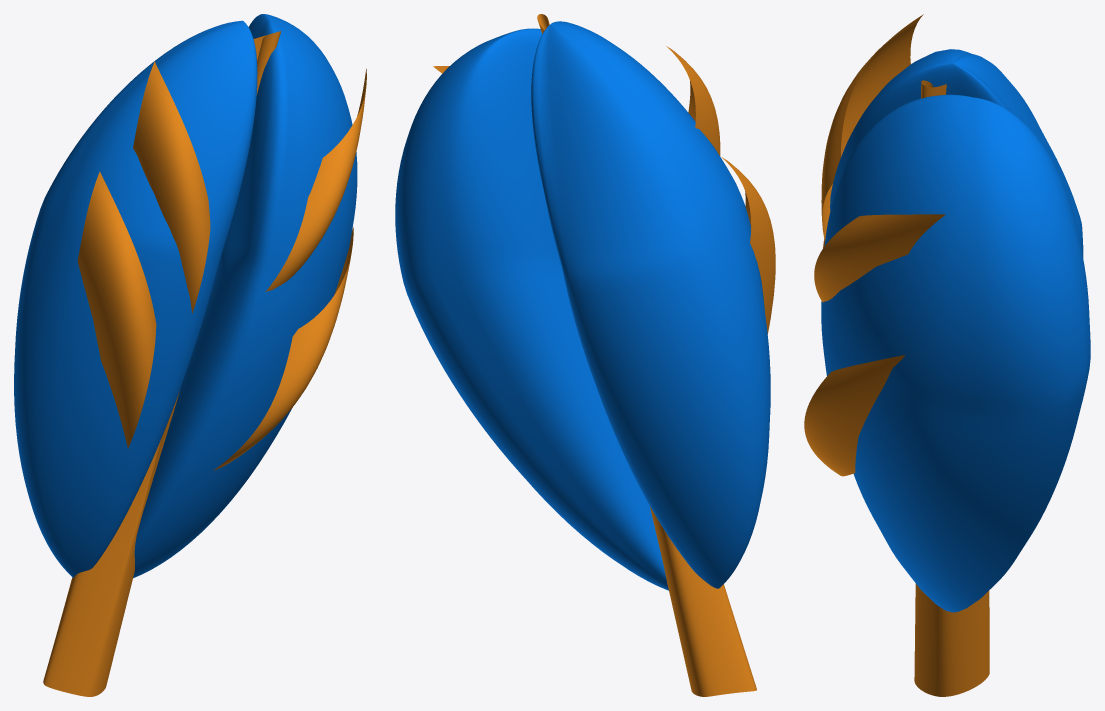
File: SpeedPowerUp.fbx
The picture shows the model from 3 angles, left to right: view 1: azimuth 30°, elevation 25°; view 2: azimuth 150°, elevation 25°; view 3: azimuth 270°, elevation 25°; orthographic projection. The views are drawn at different scales.
Parts seen in each view (by area): view 1: SurfSphere, SurfPatch, Surface; view 2: SurfSphere, Surface, SurfPatch; view 3: SurfSphere, SurfPatch, Surface.
Part boxes in pixels (x1,y1,x2,y2): SurfSphere: (14, 14, 357, 578); SurfPatch: (77, 61, 366, 470); Surface: (43, 31, 281, 696); SurfSphere: (395, 21, 770, 590); Surface: (537, 14, 756, 696); SurfPatch: (433, 46, 775, 334); SurfSphere: (821, 49, 1090, 612); SurfPatch: (804, 14, 945, 476); Surface: (914, 80, 989, 696).
Size of the model in its own units: 166 by 296 by 108.
